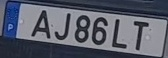6: (91, 15, 108, 47)
8: (73, 13, 90, 44)
A: (29, 9, 51, 40)
J: (53, 11, 71, 41)
L: (111, 17, 128, 49)
T: (132, 19, 150, 51)
